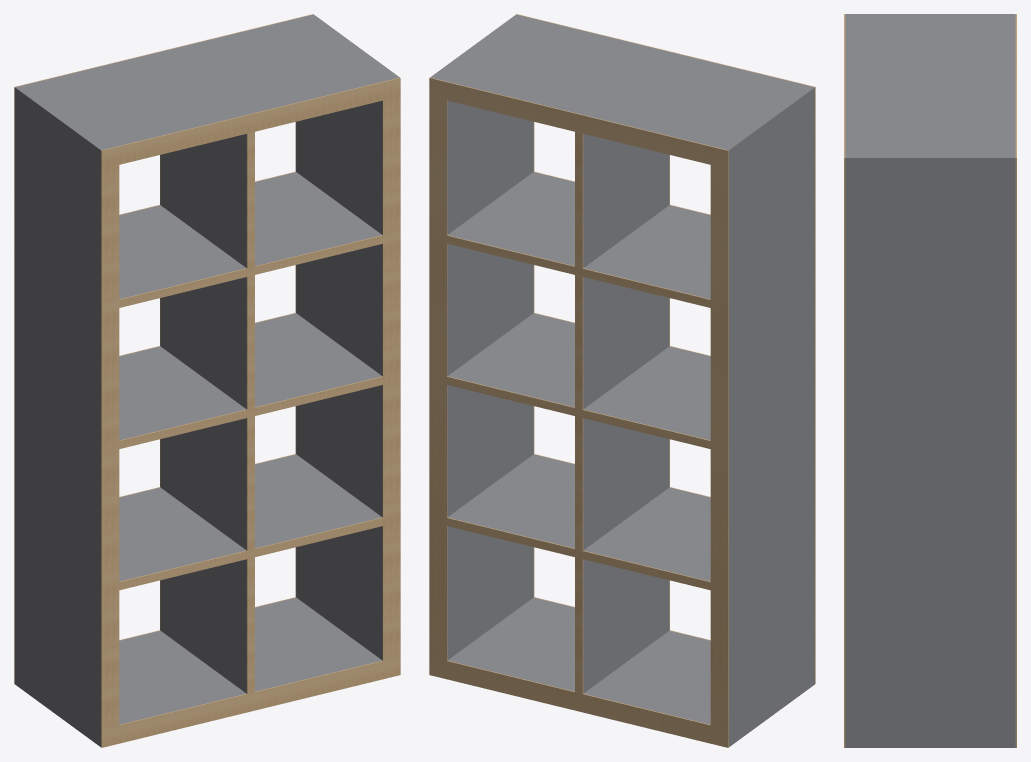
The model's file is kallax.fbx.
3 renders of one model, left to right at view 1: azimuth 30°, elevation 25°; view 2: azimuth 150°, elevation 25°; view 3: azimuth 270°, elevation 25°, orthographic.
Parts seen in each view (by area): view 1: IKE170031; view 2: IKE170031; view 3: IKE170031.
Boxes of the visible parts, x1,y1,x2,y2 form: IKE170031: (14, 14, 400, 747); IKE170031: (429, 14, 815, 747); IKE170031: (844, 14, 1016, 747).
Size of the model in its own units: 77000 by 147000 by 39000.
2 materials, 1 textured.
